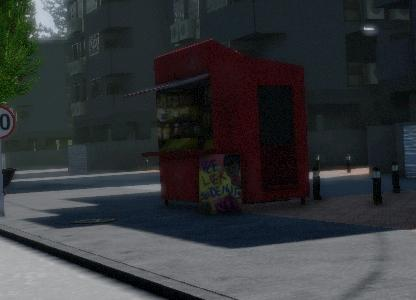Speed_60: (0, 100, 14, 138)
